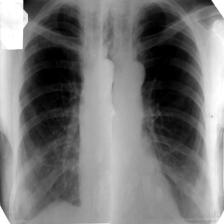tuberculosis: (7, 0, 215, 222)
